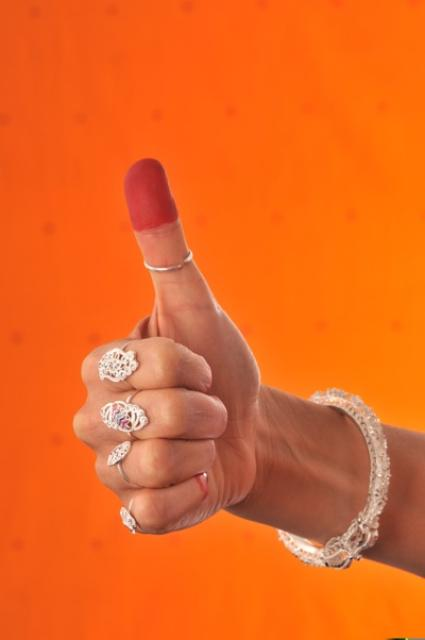shikhar: (74, 161, 425, 578)
